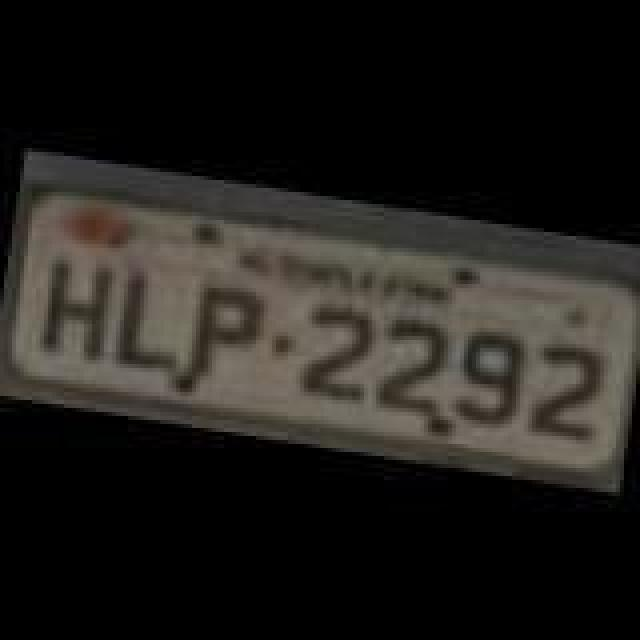2: (522, 338, 614, 446), (364, 312, 452, 424), (294, 298, 378, 406)
9: (444, 320, 532, 432)
H: (32, 250, 128, 374)
L: (110, 264, 194, 376)
P: (180, 280, 268, 392)
